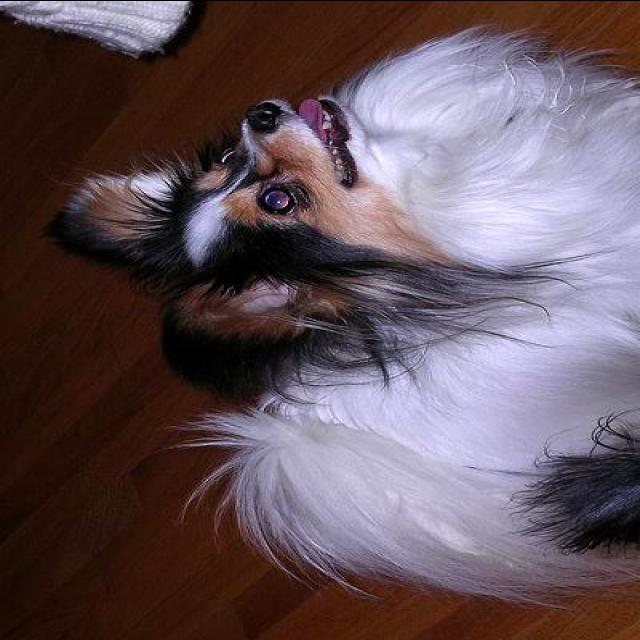papillon: (36, 24, 638, 606)
